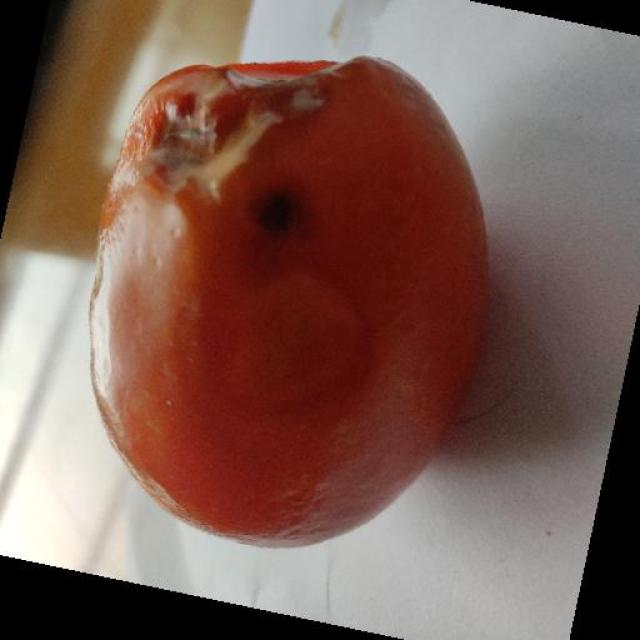Stale_tomato: (102, 80, 455, 502)
